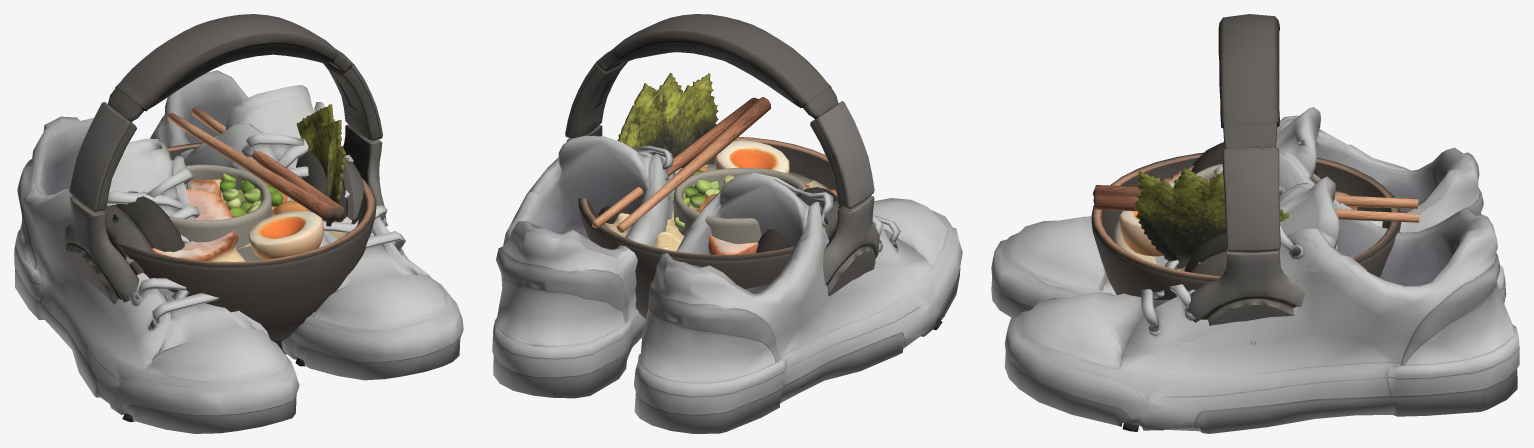
File: props_tripo.glb
3 renders of one model, left to right at view 1: azimuth 30°, elevation 25°; view 2: azimuth 150°, elevation 25°; view 3: azimuth 270°, elevation 25°, orthographic. The views are drawn at different scales.
Parts seen in each view (by area): view 1: tripo_node_62e8af56-3302-4a6a-9fe4-d4af8bd5d821, tripo_node_6a2cac63-a839-4d0c-8e0f-53c67e641321, tripo_node_4a044baf-40b1-4c6f-a5f6-e290acc4c5b2, tripo_node_277633c0-2bfe-4b38-ae60-0bcaa9445a0f; view 2: tripo_node_62e8af56-3302-4a6a-9fe4-d4af8bd5d821, tripo_node_4a044baf-40b1-4c6f-a5f6-e290acc4c5b2, tripo_node_6a2cac63-a839-4d0c-8e0f-53c67e641321, tripo_node_277633c0-2bfe-4b38-ae60-0bcaa9445a0f; view 3: tripo_node_62e8af56-3302-4a6a-9fe4-d4af8bd5d821, tripo_node_6a2cac63-a839-4d0c-8e0f-53c67e641321, tripo_node_4a044baf-40b1-4c6f-a5f6-e290acc4c5b2.
Boxes of the visible parts, x1=… form: tripo_node_62e8af56-3302-4a6a-9fe4-d4af8bd5d821: x1=14, y1=70, x2=463, y2=433; tripo_node_6a2cac63-a839-4d0c-8e0f-53c67e641321: x1=64, y1=14, x2=386, y2=304; tripo_node_4a044baf-40b1-4c6f-a5f6-e290acc4c5b2: x1=117, y1=104, x2=376, y2=354; tripo_node_277633c0-2bfe-4b38-ae60-0bcaa9445a0f: x1=168, y1=164, x2=271, y2=261; tripo_node_62e8af56-3302-4a6a-9fe4-d4af8bd5d821: x1=492, y1=135, x2=962, y2=433; tripo_node_4a044baf-40b1-4c6f-a5f6-e290acc4c5b2: x1=578, y1=73, x2=836, y2=319; tripo_node_6a2cac63-a839-4d0c-8e0f-53c67e641321: x1=565, y1=14, x2=879, y2=296; tripo_node_277633c0-2bfe-4b38-ae60-0bcaa9445a0f: x1=673, y1=168, x2=806, y2=243; tripo_node_62e8af56-3302-4a6a-9fe4-d4af8bd5d821: x1=991, y1=107, x2=1519, y2=433; tripo_node_6a2cac63-a839-4d0c-8e0f-53c67e641321: x1=1184, y1=14, x2=1316, y2=325; tripo_node_4a044baf-40b1-4c6f-a5f6-e290acc4c5b2: x1=1091, y1=152, x2=1419, y2=300.
Bounding box in the file's own units: 0.2185 × 0.2 × 0.29.
4 materials, 4 textured.
